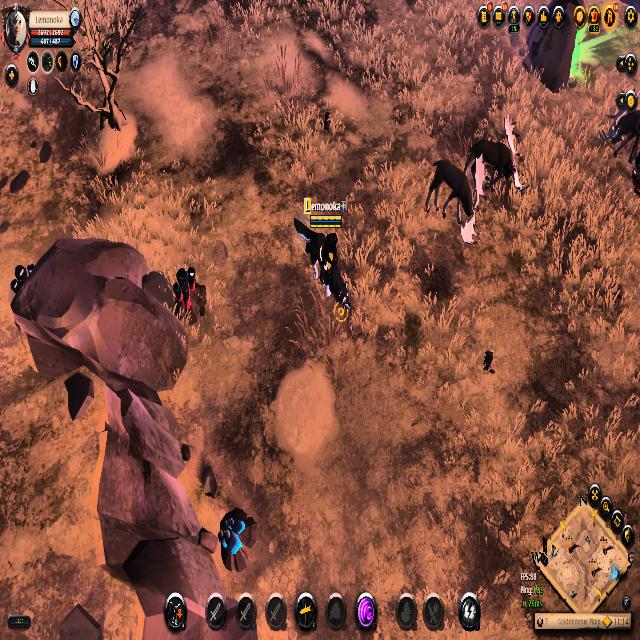ore tier 4: (218, 508, 258, 572)
ore tier 5: (168, 261, 209, 327)
